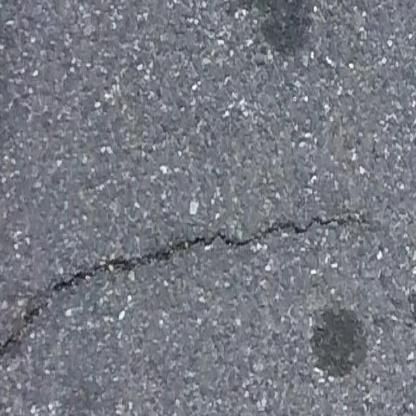Cracks: (0, 213, 355, 363)
